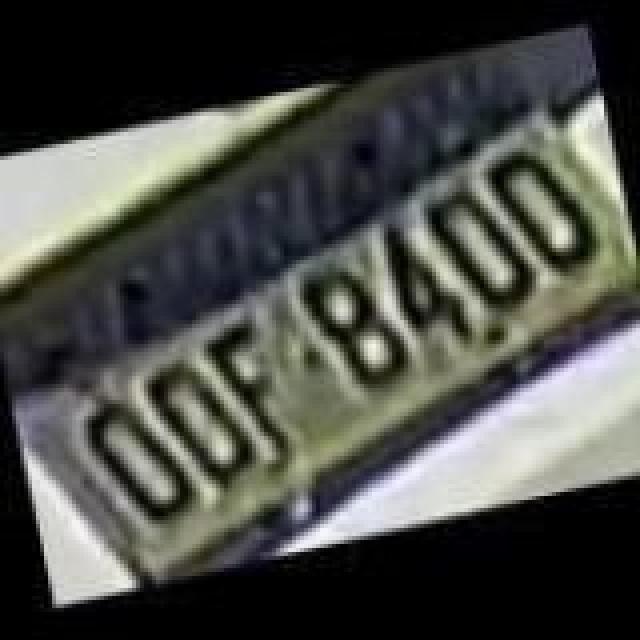4: (372, 214, 476, 366)
8: (292, 250, 412, 398)
F: (196, 316, 296, 468)
O: (138, 338, 266, 494), (478, 138, 606, 290), (76, 380, 200, 536), (416, 170, 540, 326)
